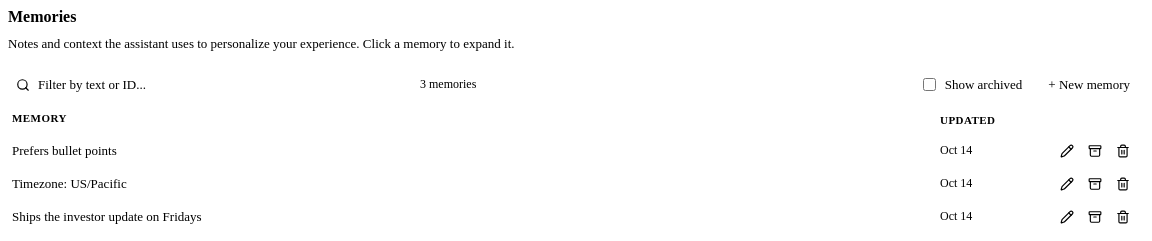
it: MemoriesSection › archives out of the active view and shows archived rows on request
Expected: the text "Timezone: US/Pacific" is shown, [12,176,127,191]
Click the 2nd button named "Archive" at (1095,184), box [1082,171,1108,197]
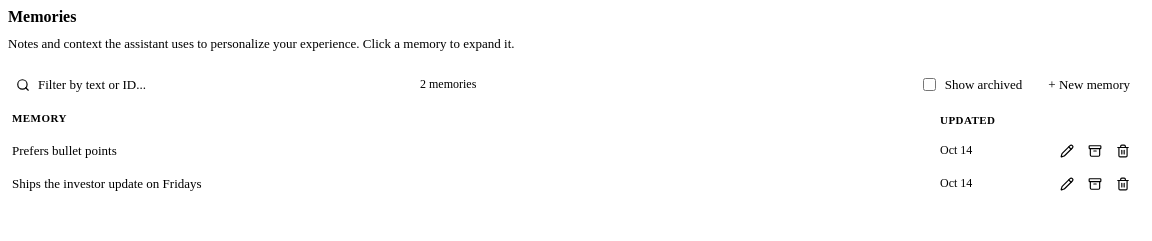
Expected: the button "Timezone: US/Pacific" is gone
Click the checkbox labelled "Show archived" at (929,84), box [923,78,936,91]
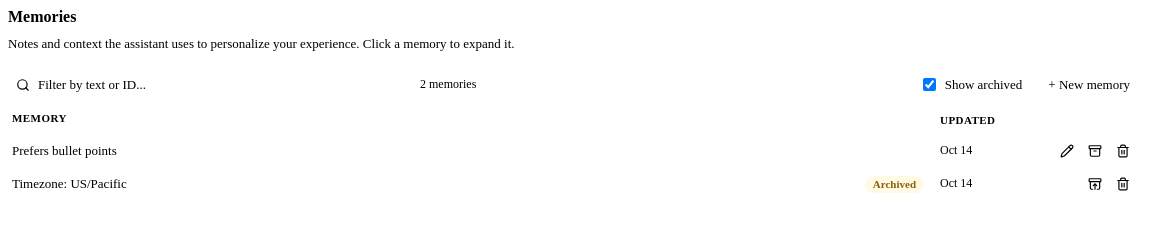
Expected: the text "Archived" is shown, [865,176,924,193]
Expected: the button named "Unarchive" is shown, [1082,171,1108,197]
